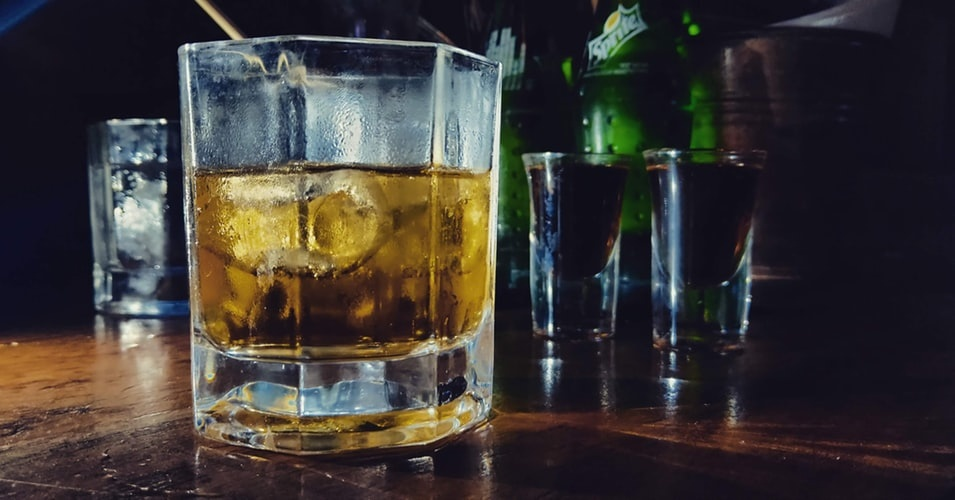whiskey: (174, 51, 493, 451)
